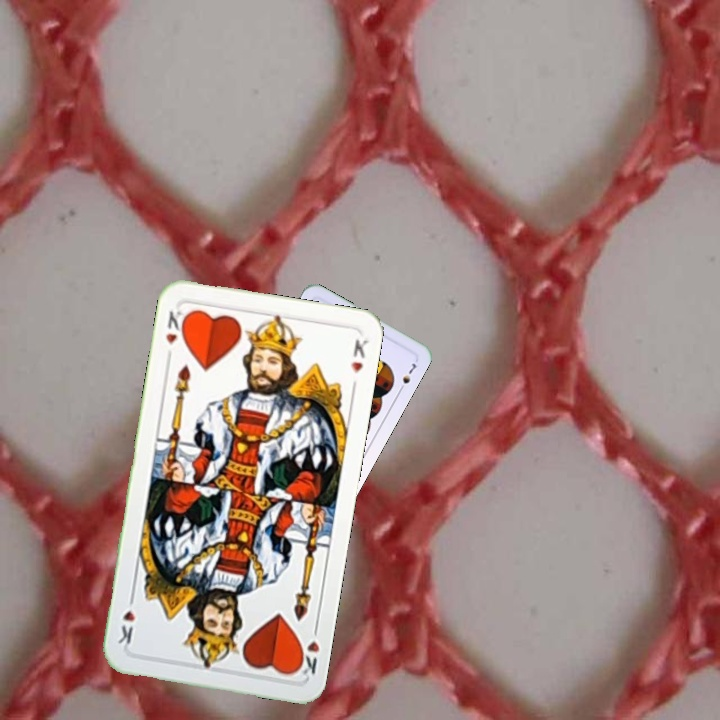HK: (292, 620, 322, 679), (161, 306, 190, 347)
